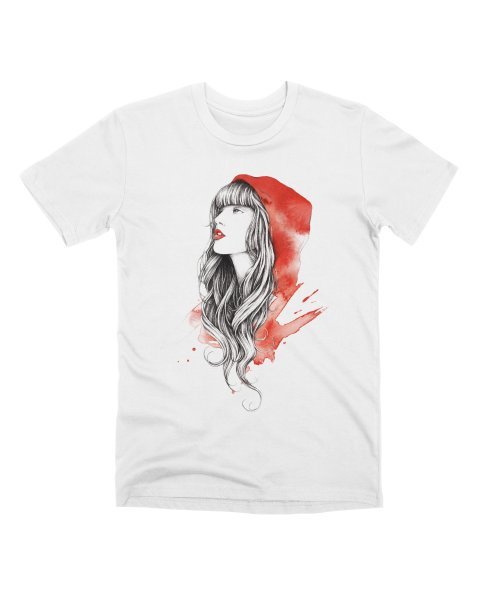design: (170, 170, 331, 415)
